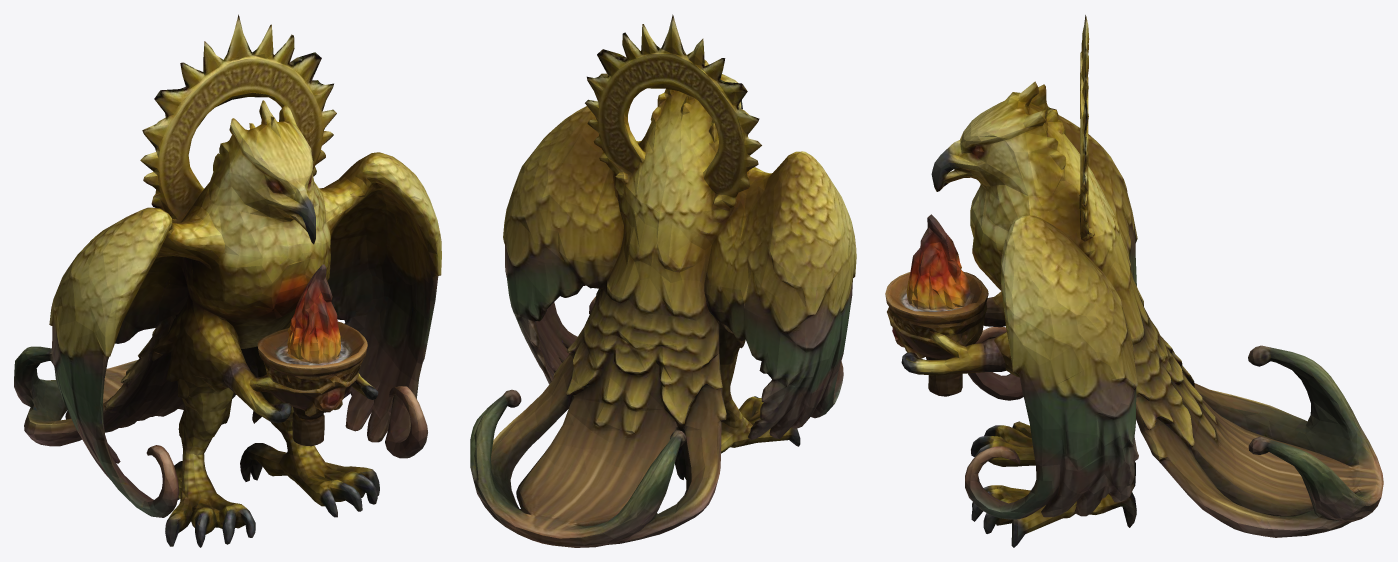
The model's file is sunbirdGuardian.glb.
3 views of the same model, side by side, from view 1: azimuth 30°, elevation 25°; view 2: azimuth 150°, elevation 25°; view 3: azimuth 270°, elevation 25° (orthographic). The views are drawn at different scales.
Parts seen in each view (by area): view 1: world; view 2: world; view 3: world.
Part boxes in pixels (x1=…): world: x1=14, y1=14, x2=441, y2=547; world: x1=470, y1=14, x2=856, y2=547; world: x1=885, y1=15, x2=1383, y2=547.
Size of the model in its own units: 0.755 by 0.9883 by 0.902.
1 material, 1 textured.
